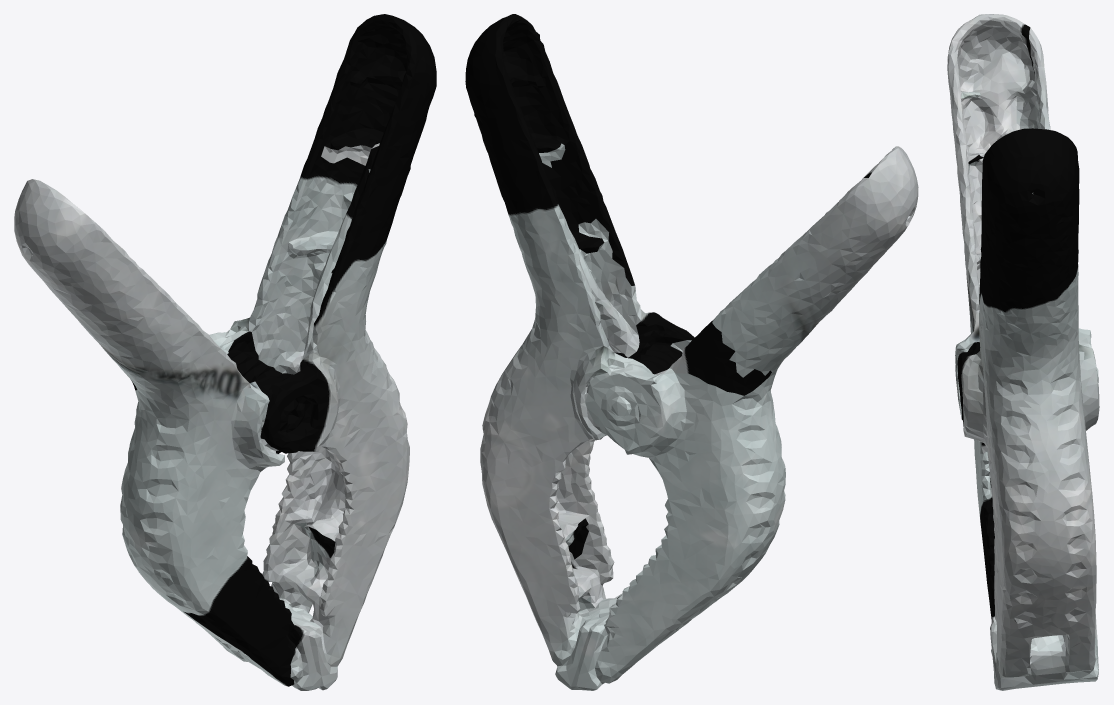
3 views of the same model, side by side, from view 1: azimuth 30°, elevation 25°; view 2: azimuth 150°, elevation 25°; view 3: azimuth 270°, elevation 25° (orthographic). The views are drawn at different scales.
Visible parts, largest first — view 1: node; view 2: node; view 3: node.
Part boxes in pixels (x1,y1,x2,y2): node: [14, 14, 436, 690]; node: [465, 14, 918, 690]; node: [947, 14, 1099, 690].
Size of the model in its own units: 0.12 by 0.1711 by 0.0392.
